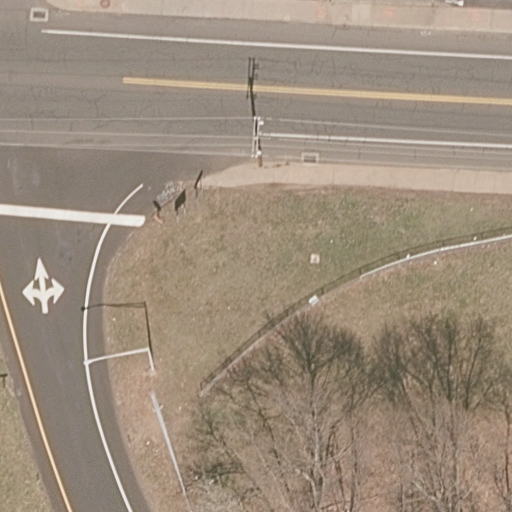DT: (249, 113, 265, 167)
